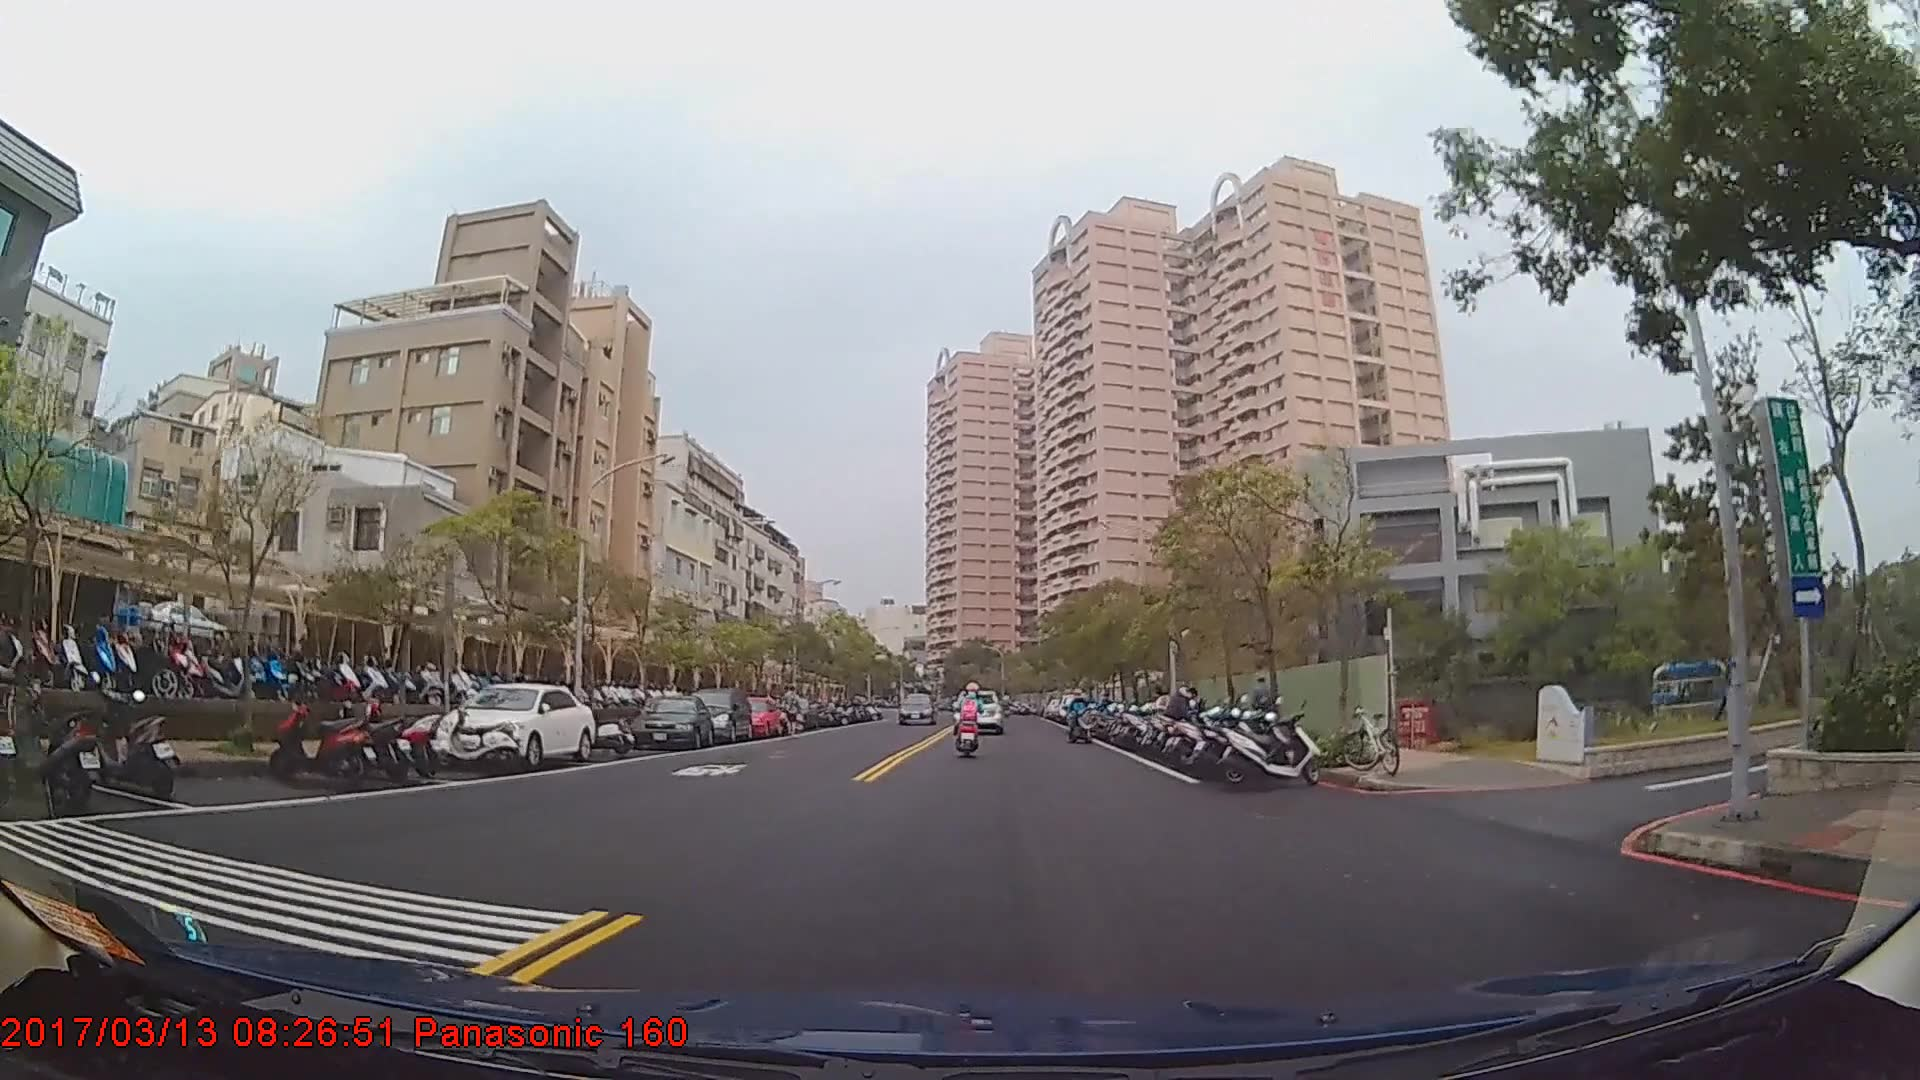pedestrian: (1167, 684, 1201, 752), (781, 686, 809, 742), (1251, 677, 1278, 734)
rider: (956, 684, 986, 755), (1068, 687, 1092, 743)
vehicle: (435, 682, 594, 770), (629, 694, 712, 751), (685, 687, 751, 743), (952, 684, 1004, 732), (731, 694, 782, 739), (898, 690, 932, 726)
